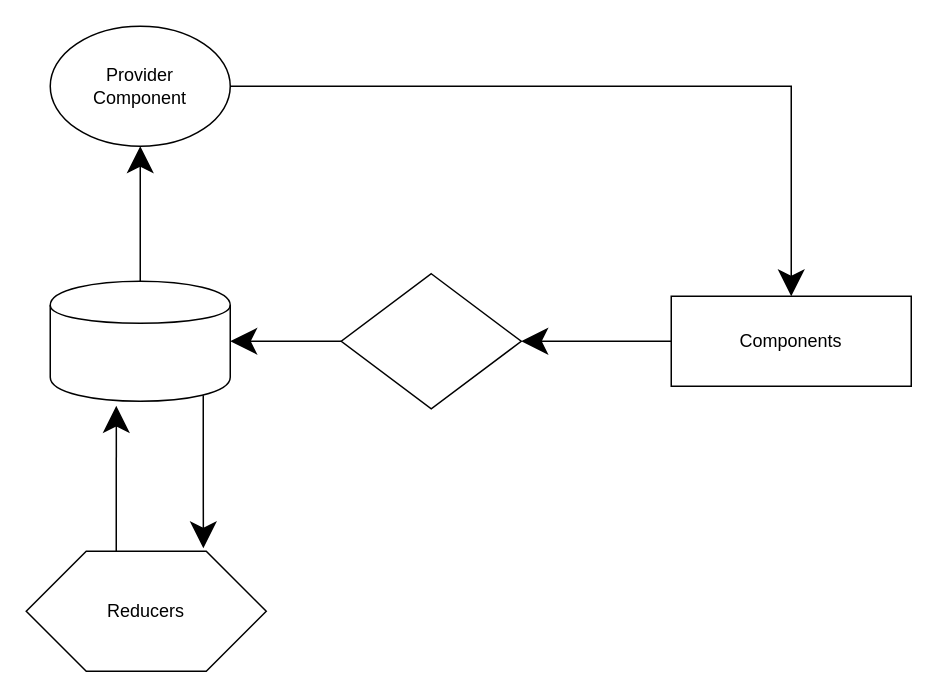
This 938x698 diagram has some shape labels left out. Each missing label, with the centre of its shape:
"Actions" goes at [430,340].
"Store" goes at [139,340].
